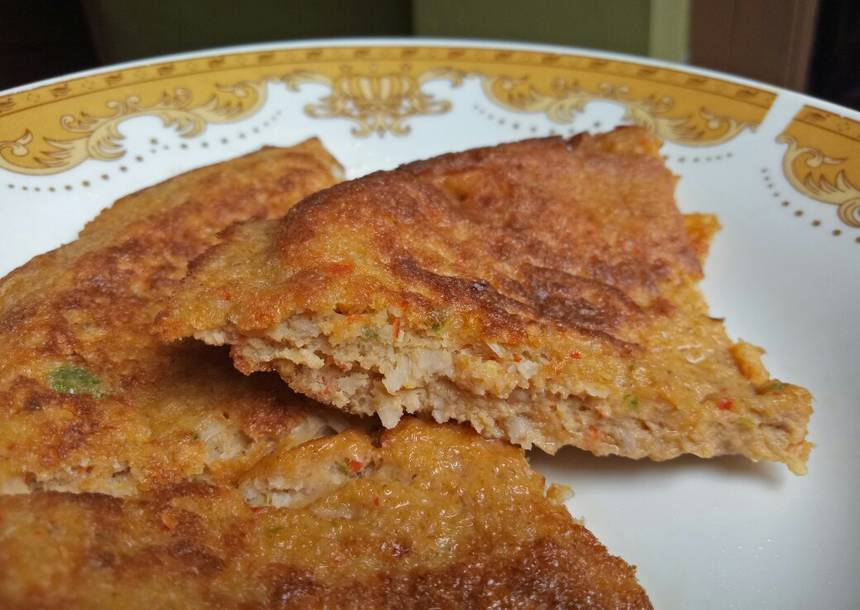Telur: (175, 166, 823, 462)
